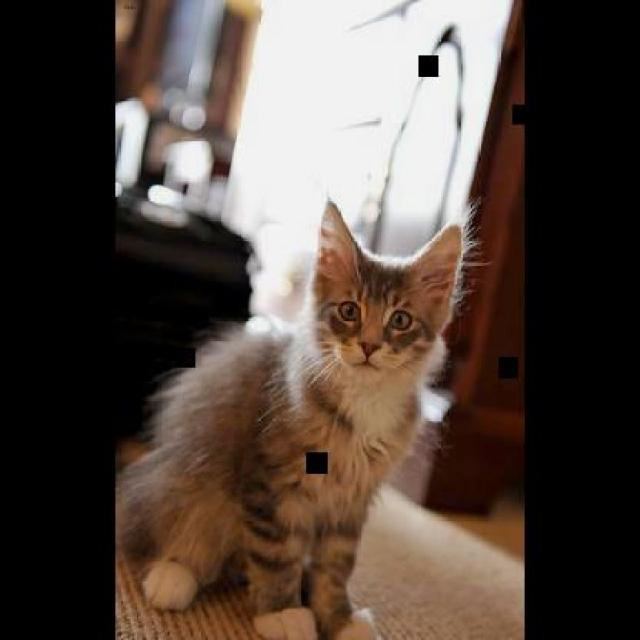unauthorized: (114, 196, 489, 638)
